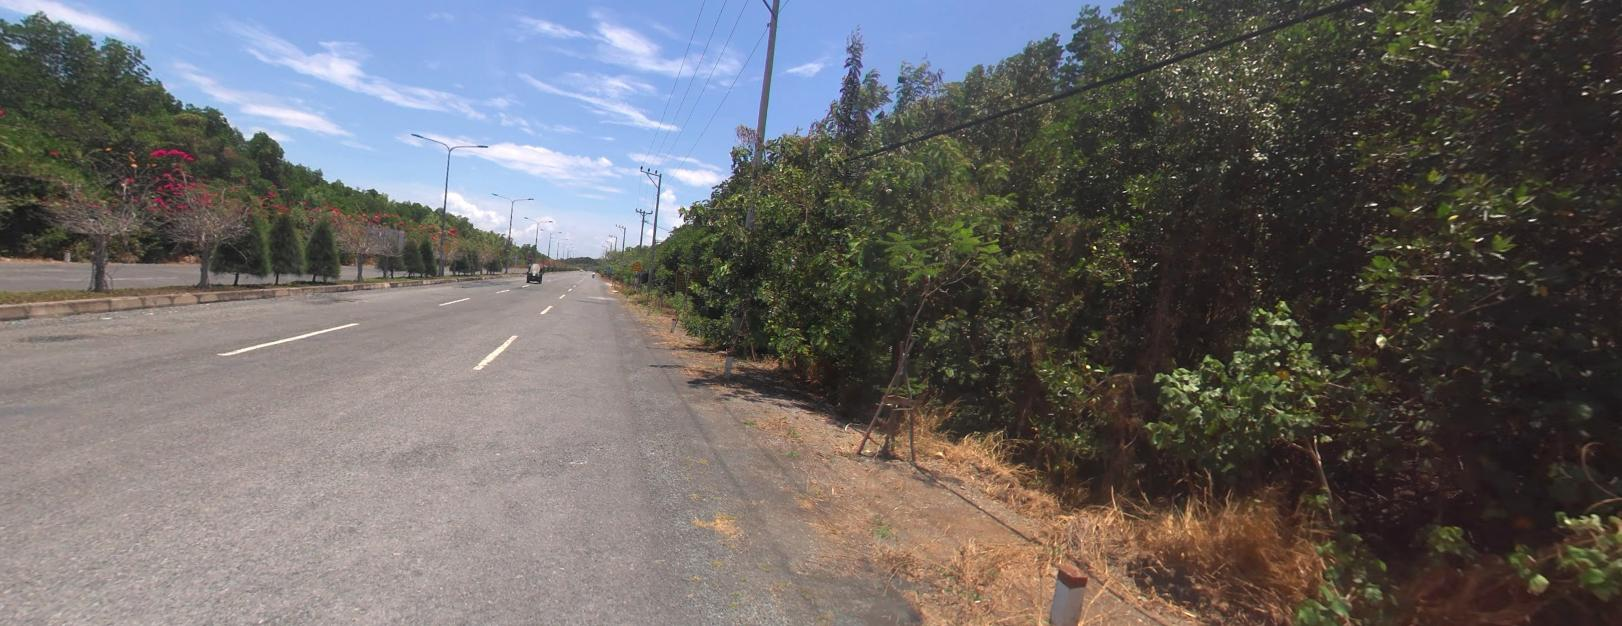Nguy hiem: (630, 259, 643, 271)
